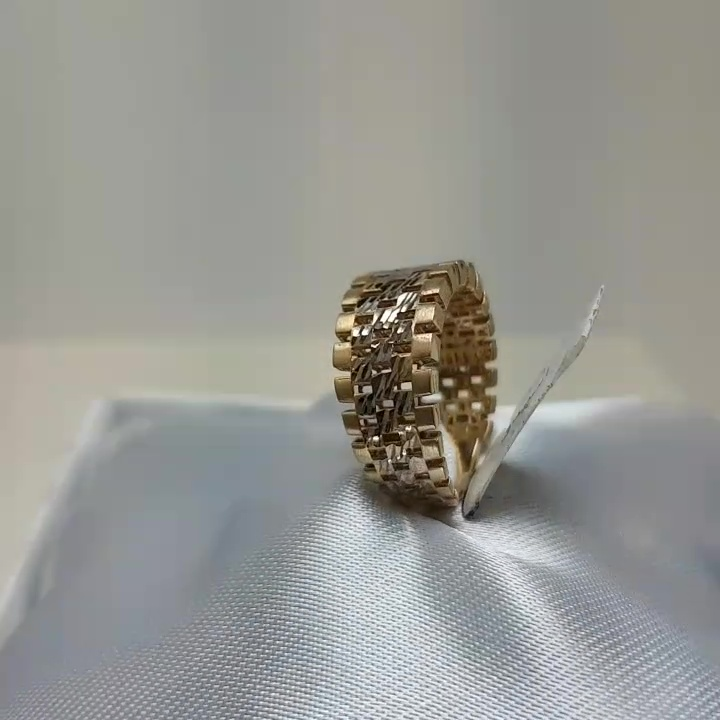Ring 1: (315, 236, 517, 530)
